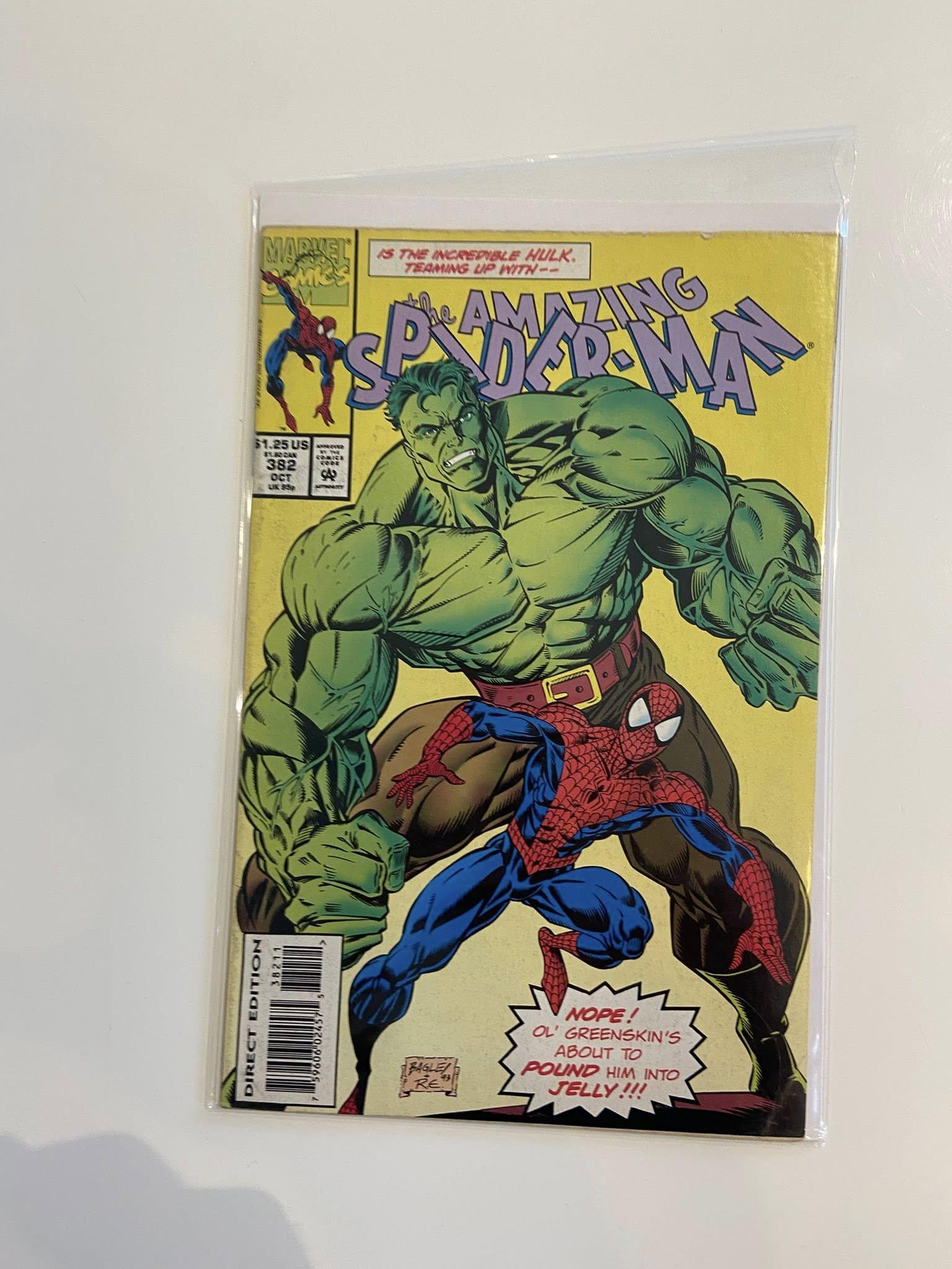comic: (219, 206, 845, 1137)
